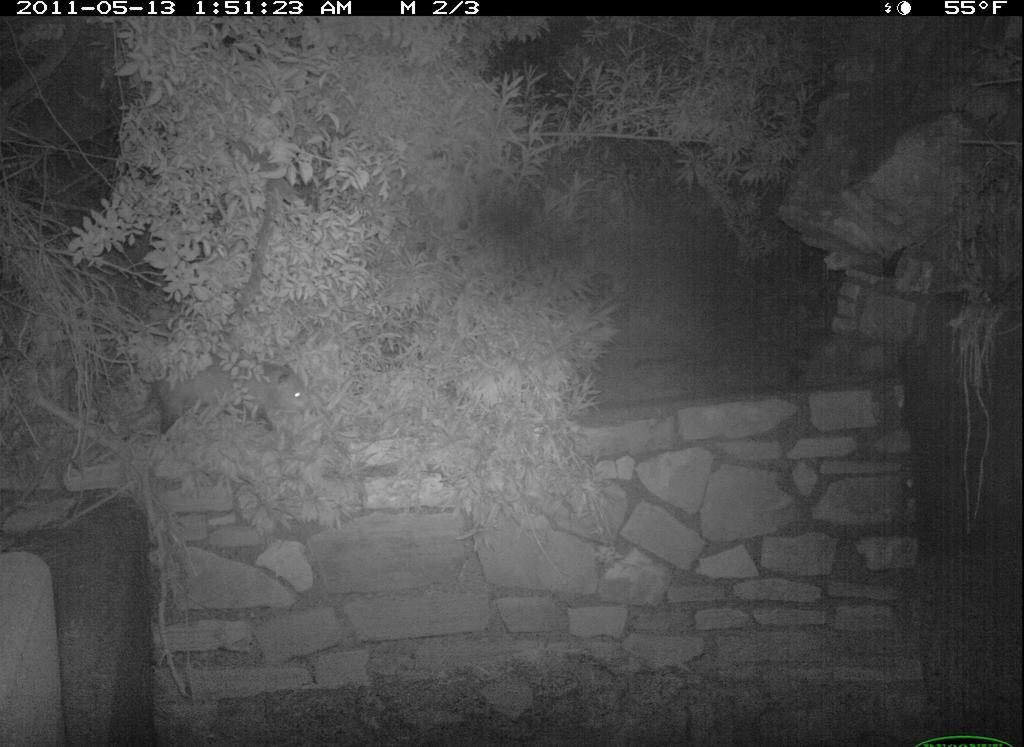opossum: (150, 353, 342, 442)
